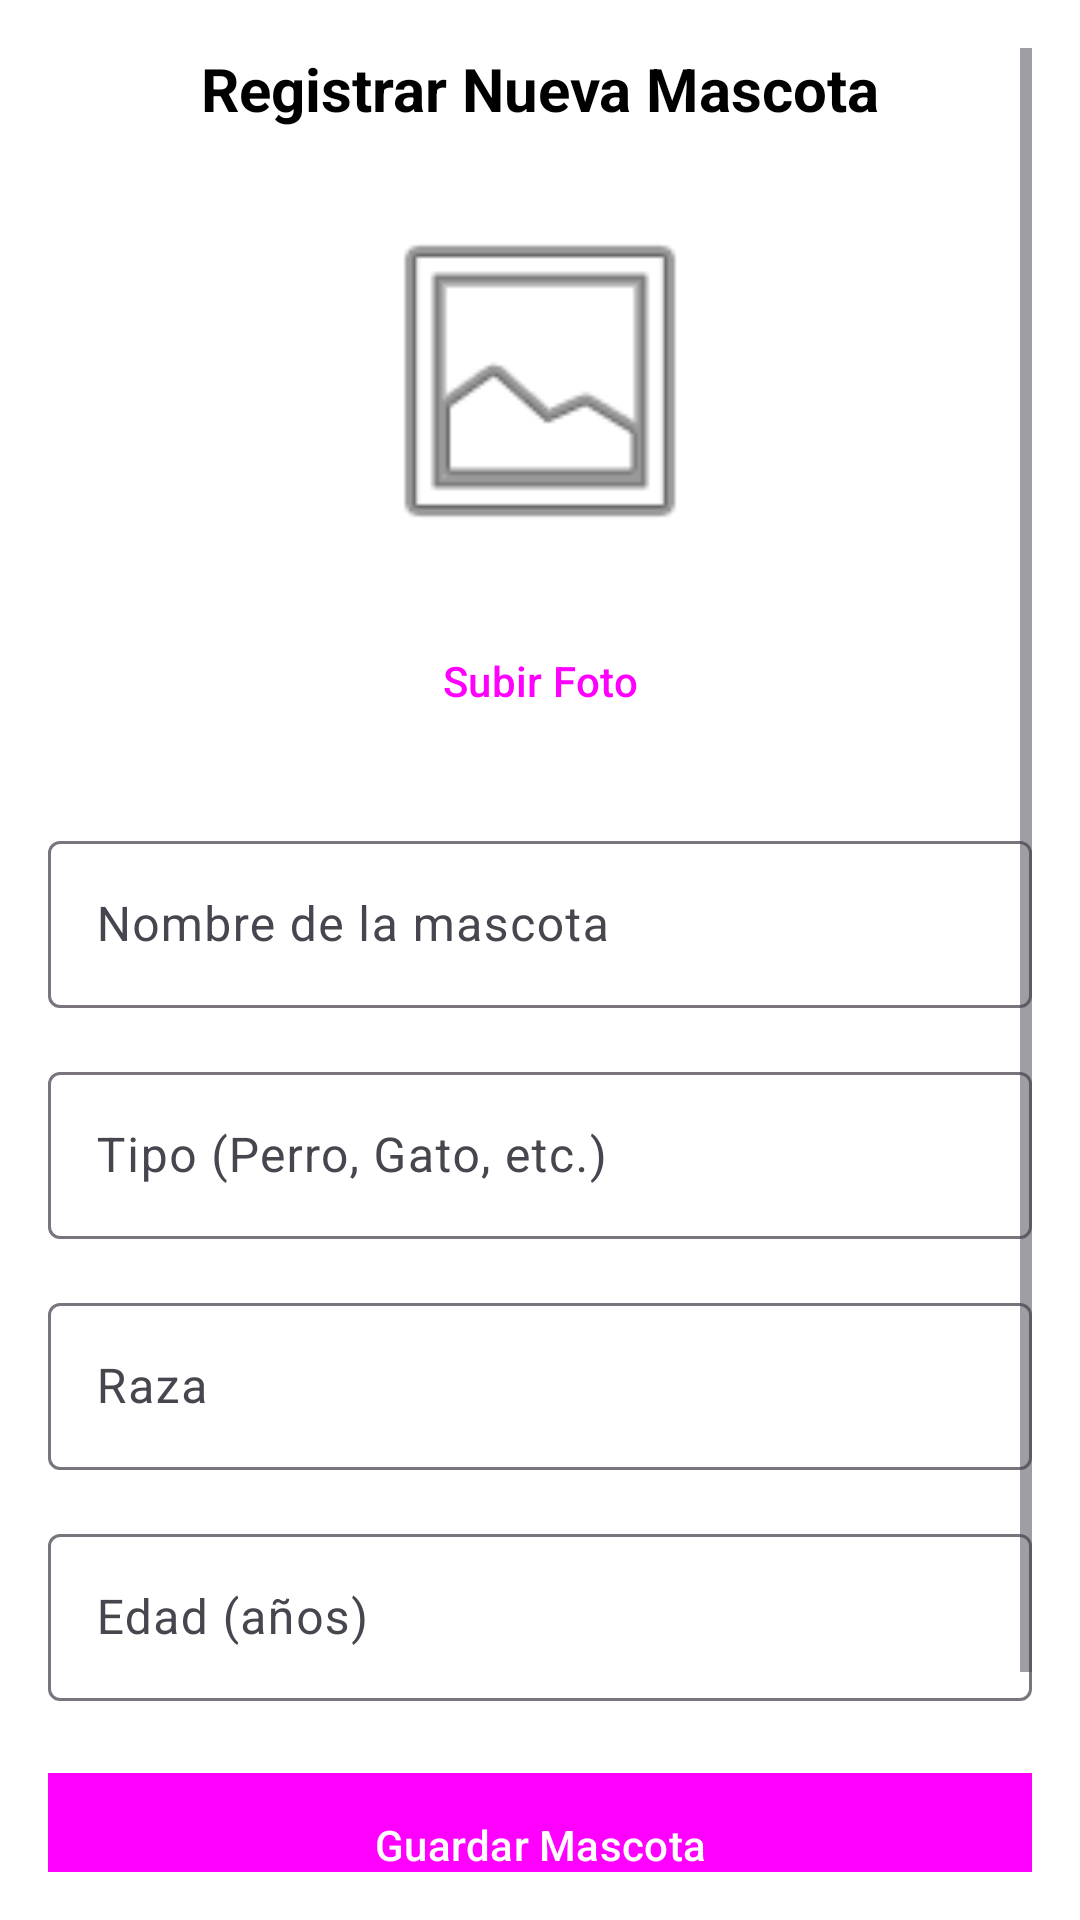

Icon click points for this 1080px×1920px phone screenshot, format [x,y]:
gallery: [540,381]
